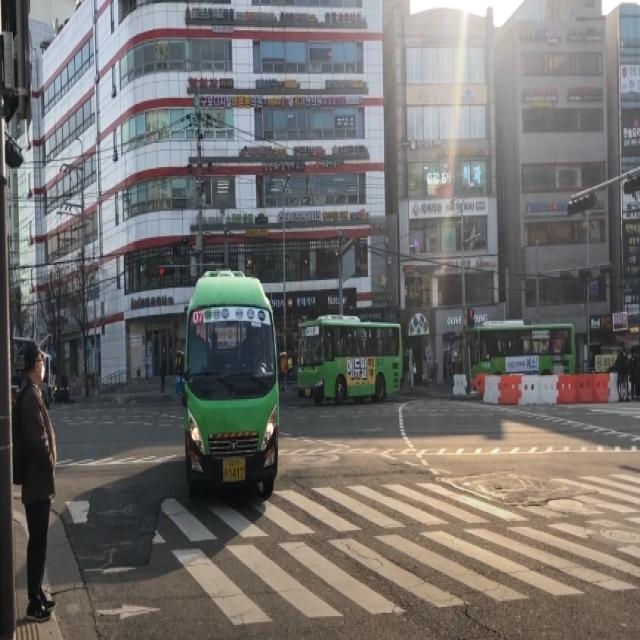bus-number: (192, 309, 204, 324)
